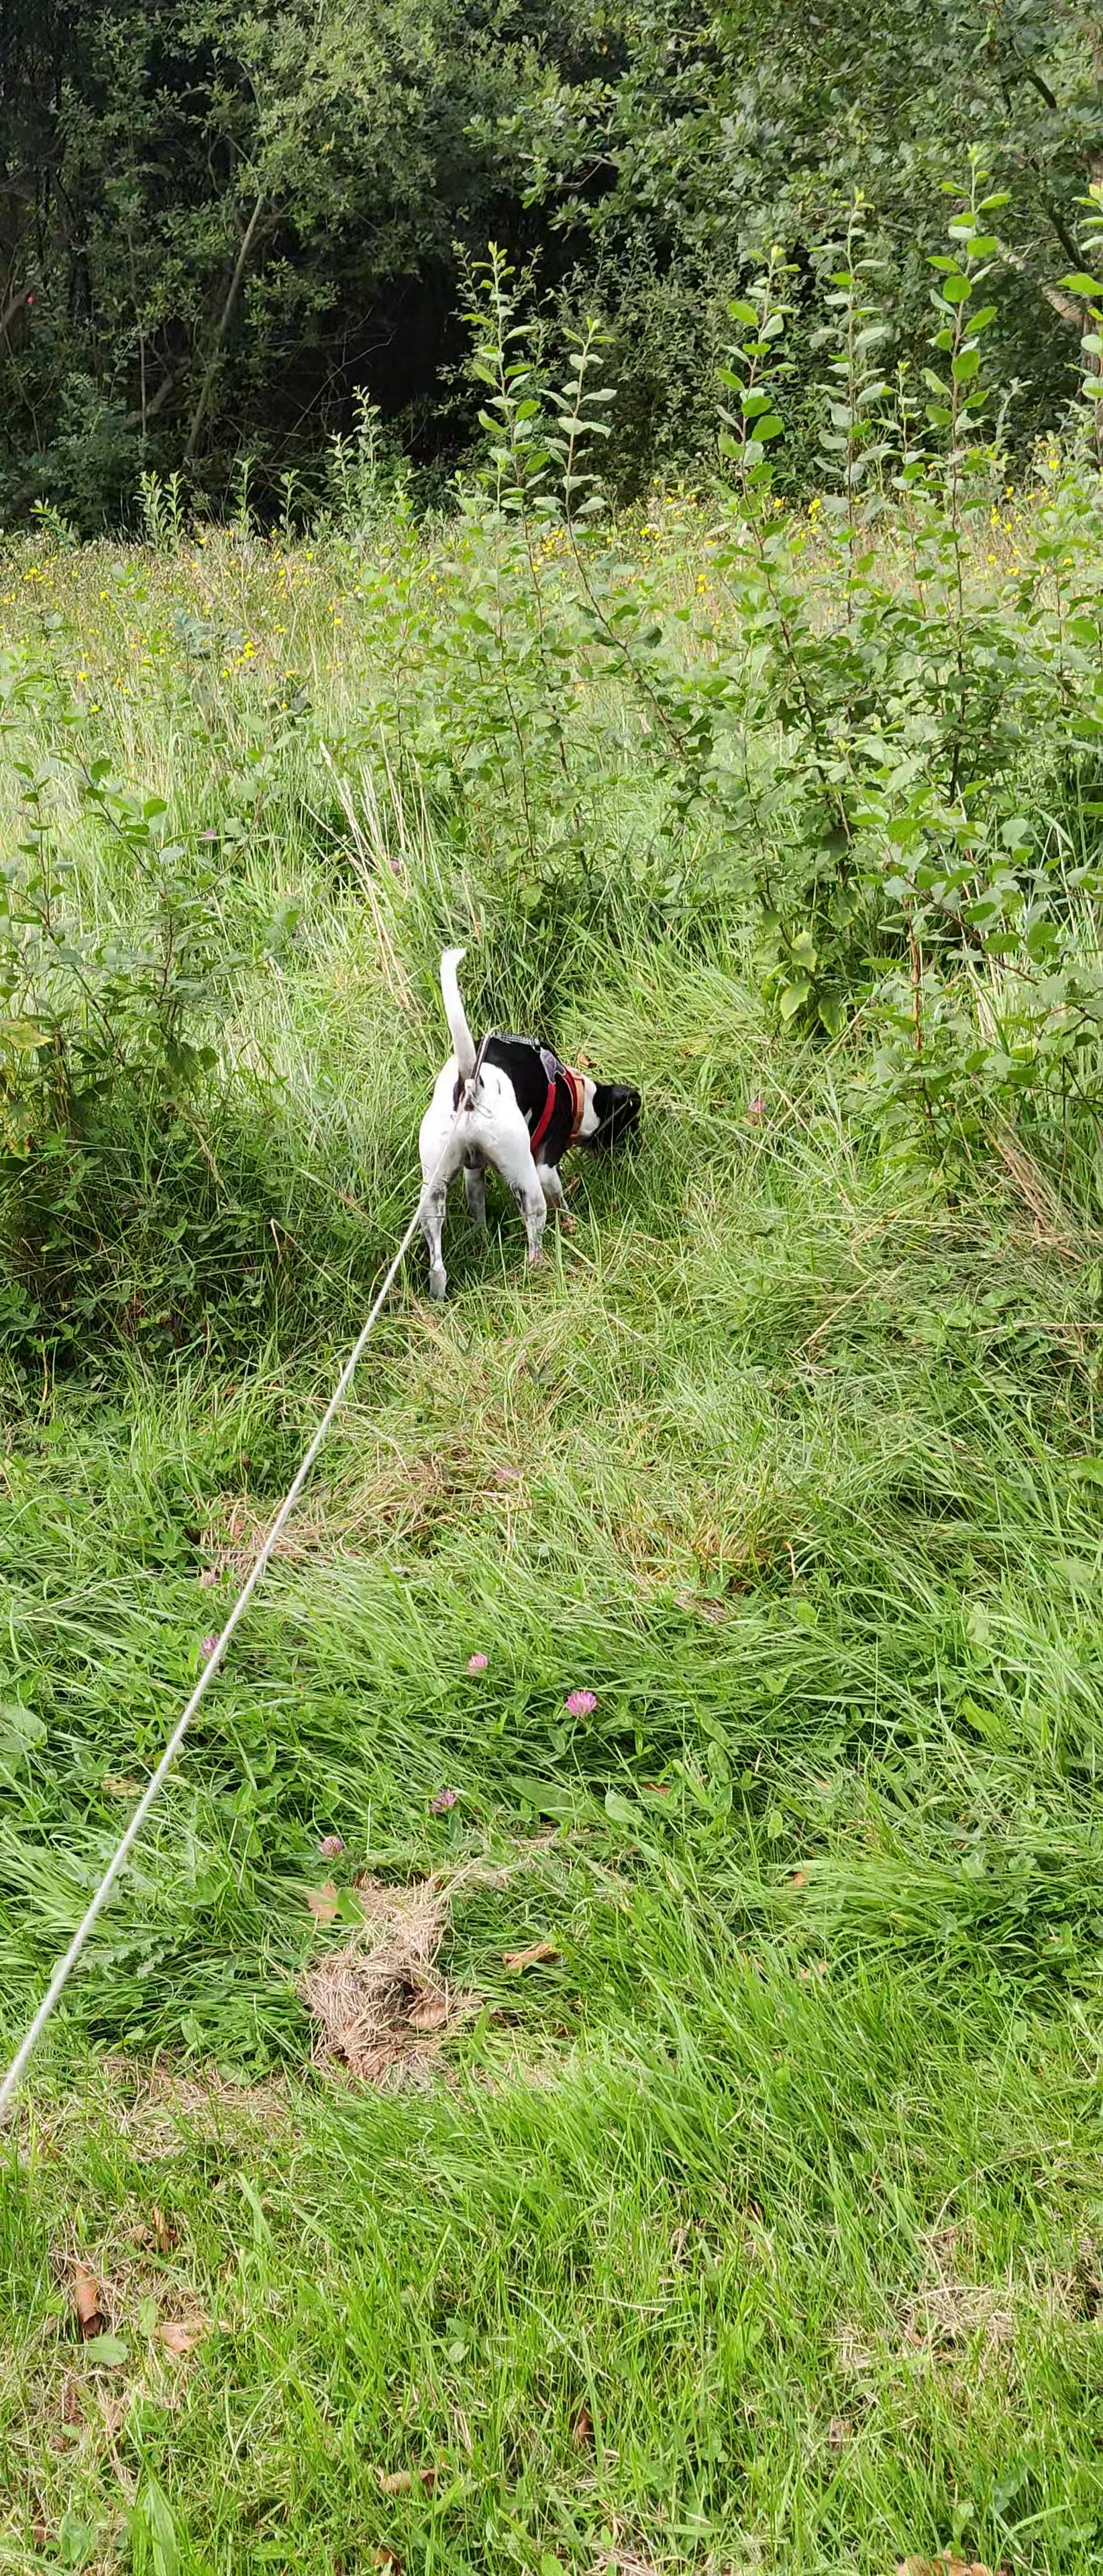Dog: (403, 936, 649, 1306)
